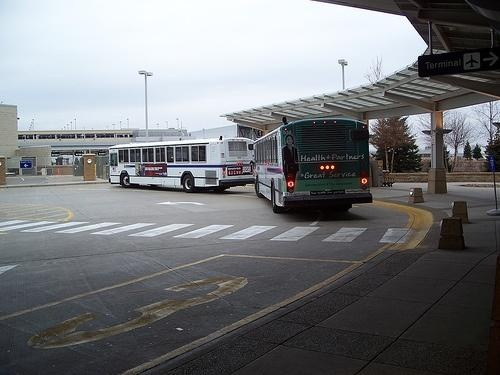bus: (251, 117, 376, 218), (109, 138, 255, 195)
